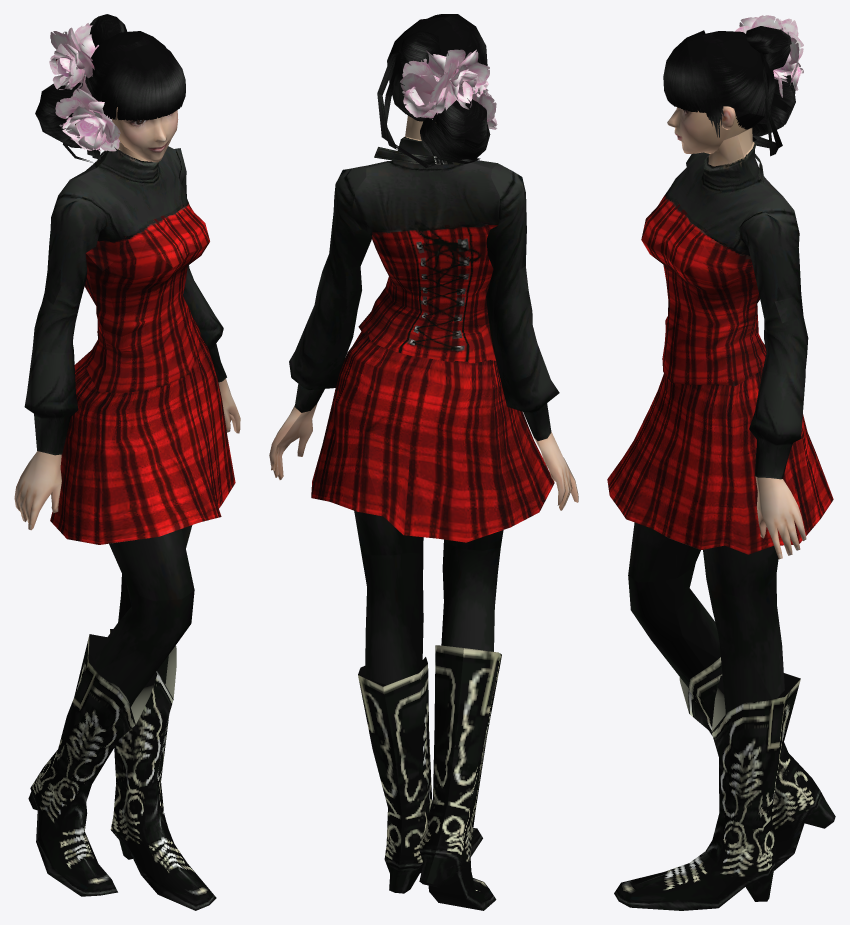
The model's file is female-model.obj.
3 views of the same model, side by side, from view 1: azimuth 30°, elevation 25°; view 2: azimuth 150°, elevation 25°; view 3: azimuth 270°, elevation 25° (orthographic). The views are drawn at different scales.
Visible parts, largest first — view 1: 1fd89260_obj, 1fe1bc78_obj, 1fda16b8_obj, 1fd68a68_obj, 1fe19ed8_obj; view 2: 1fd89260_obj, 1fe1bc78_obj, 1fe19ed8_obj, 1fda16b8_obj; view 3: 1fd89260_obj, 1fe1bc78_obj, 1fe19ed8_obj, 1fd68a68_obj.
Boxes of the visible parts, bbox=[...] form: 1fd89260_obj: bbox=[24, 141, 235, 910]; 1fe1bc78_obj: bbox=[35, 14, 185, 163]; 1fda16b8_obj: bbox=[14, 451, 61, 530]; 1fd68a68_obj: bbox=[112, 107, 178, 162]; 1fe19ed8_obj: bbox=[218, 378, 240, 433]; 1fd89260_obj: bbox=[289, 116, 559, 910]; 1fe1bc78_obj: bbox=[377, 14, 497, 167]; 1fe19ed8_obj: bbox=[269, 404, 316, 479]; 1fda16b8_obj: bbox=[534, 432, 578, 510]; 1fd89260_obj: bbox=[607, 128, 835, 910]; 1fe1bc78_obj: bbox=[663, 15, 803, 156]; 1fe19ed8_obj: bbox=[755, 476, 806, 559]; 1fd68a68_obj: bbox=[667, 106, 748, 153].
Size of the model in its own units: 0.5408 by 1.73 by 0.4122.
Materials: 4 (4 with a texture image).
